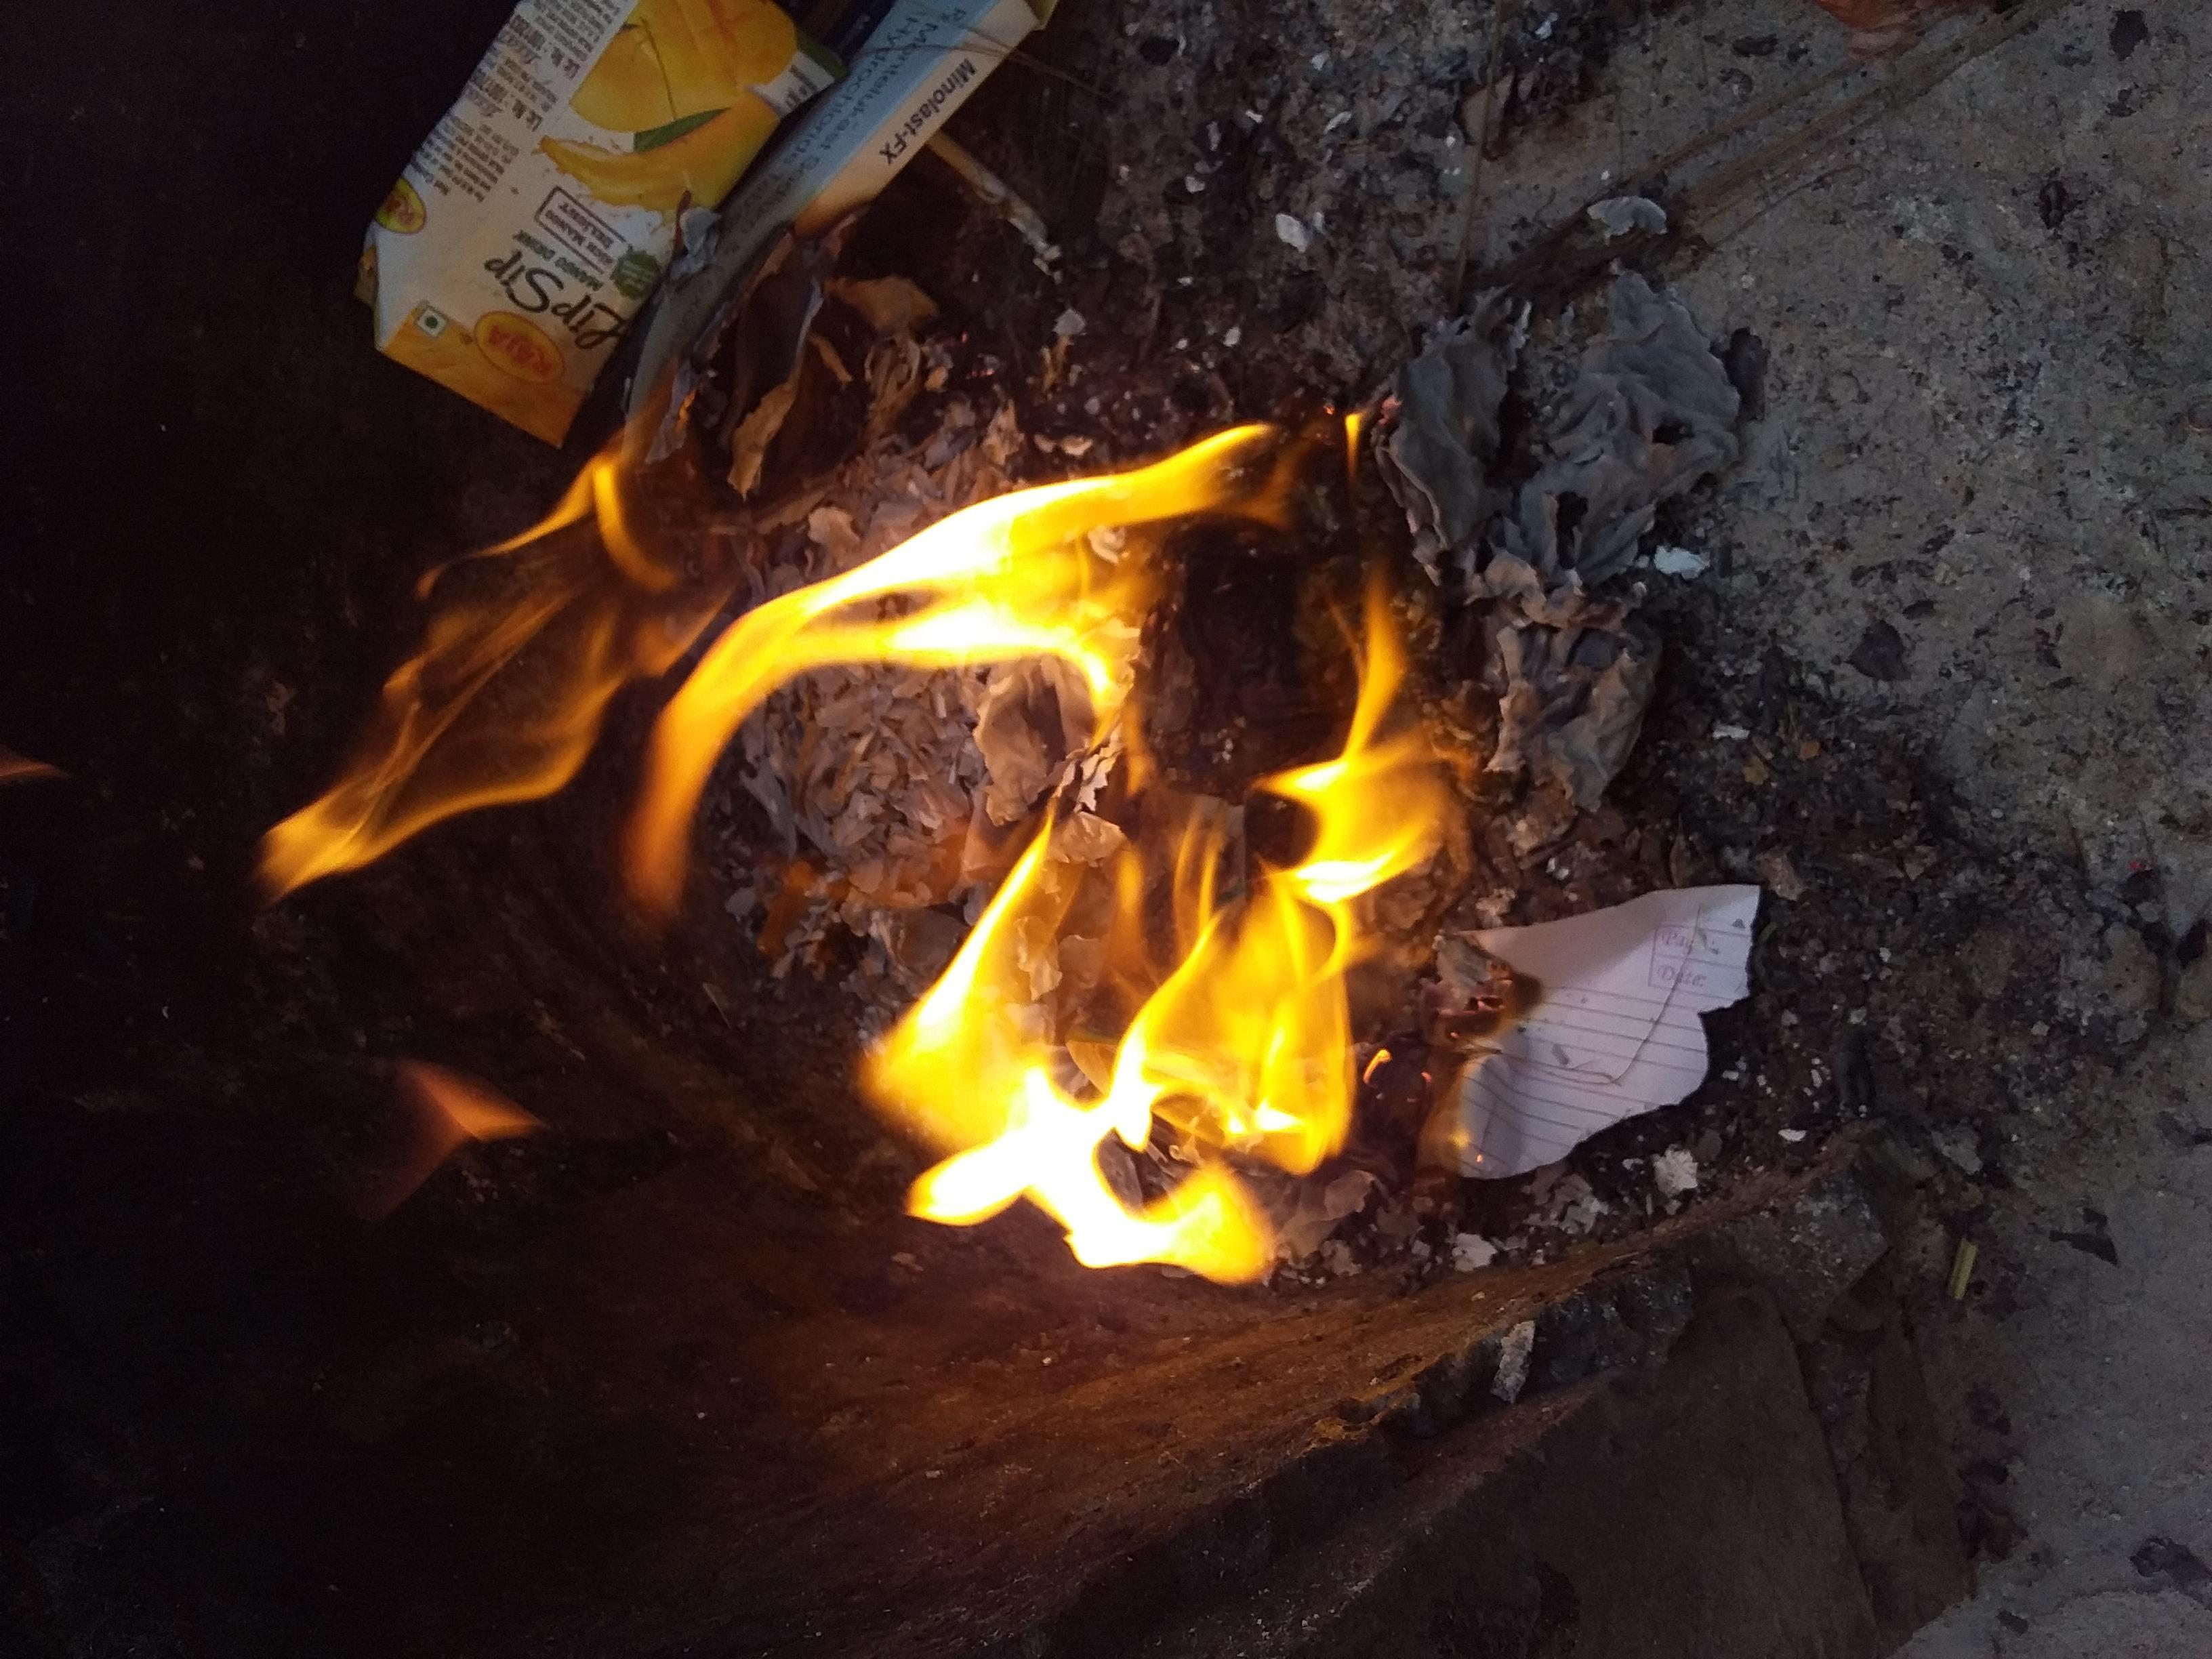fire: (489, 181, 1662, 1103)
